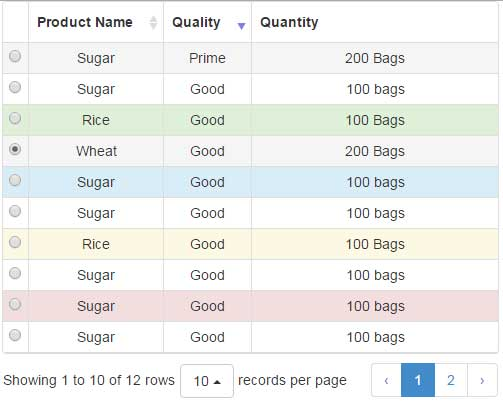button: (428, 351, 471, 400), (400, 356, 439, 400), (463, 359, 500, 400), (368, 359, 402, 400)
checkbox: (4, 198, 23, 222), (7, 168, 25, 191), (5, 107, 24, 128), (7, 138, 24, 161), (4, 79, 23, 99), (8, 325, 27, 345), (6, 45, 23, 67), (7, 262, 22, 284), (9, 231, 23, 253), (8, 294, 22, 314)
dropdown: (177, 359, 237, 403)
